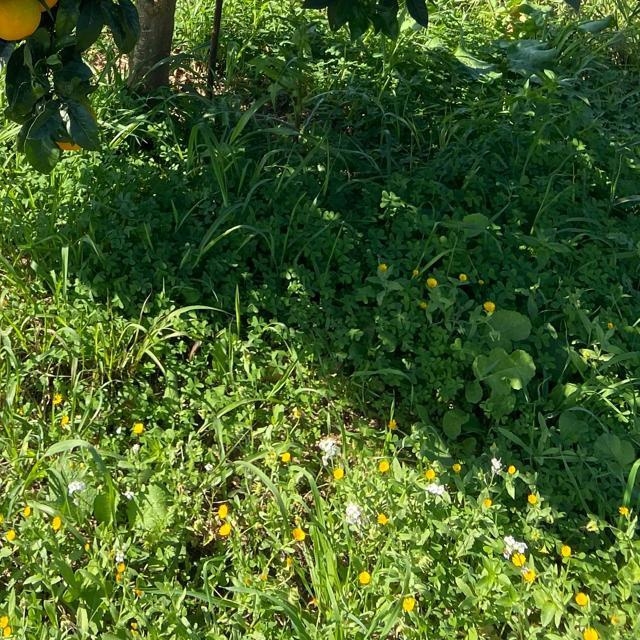orange: (0, 0, 48, 37)
